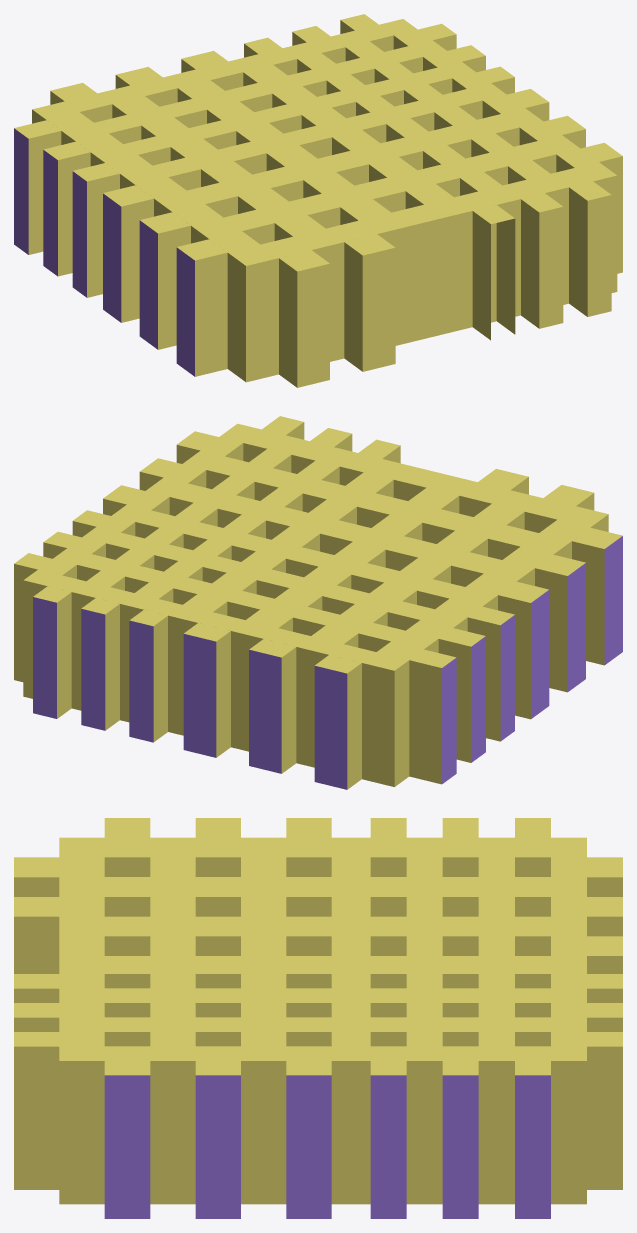
File: Backrooms1InvisEnter.fbx
3 renders of one model, top to bottom at view 1: azimuth 30°, elevation 25°; view 2: azimuth 150°, elevation 25°; view 3: azimuth 270°, elevation 25°, orthographic. The views are drawn at different scales.
Visible parts, largest first — view 1: Floor.001; view 2: Floor.001; view 3: Floor.001.
Part boxes in pixels (x1,y1,x2,y2): Floor.001: [14, 14, 622, 387]; Floor.001: [14, 416, 622, 789]; Floor.001: [14, 818, 622, 1218].
Bounding box in the file's own units: 4870 × 1265 × 4870.
